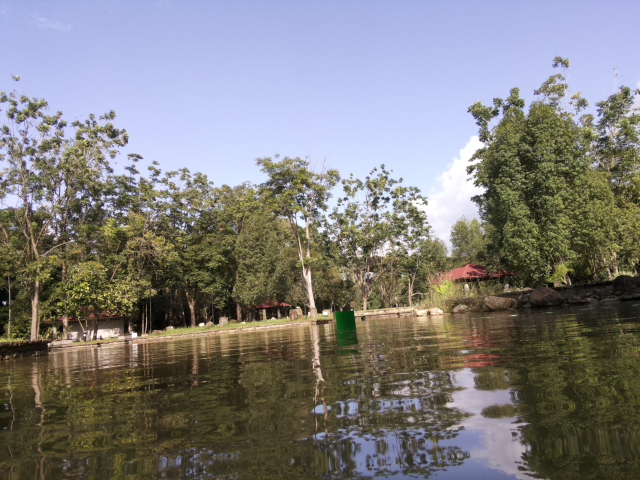obstacle: (331, 309, 357, 330)
